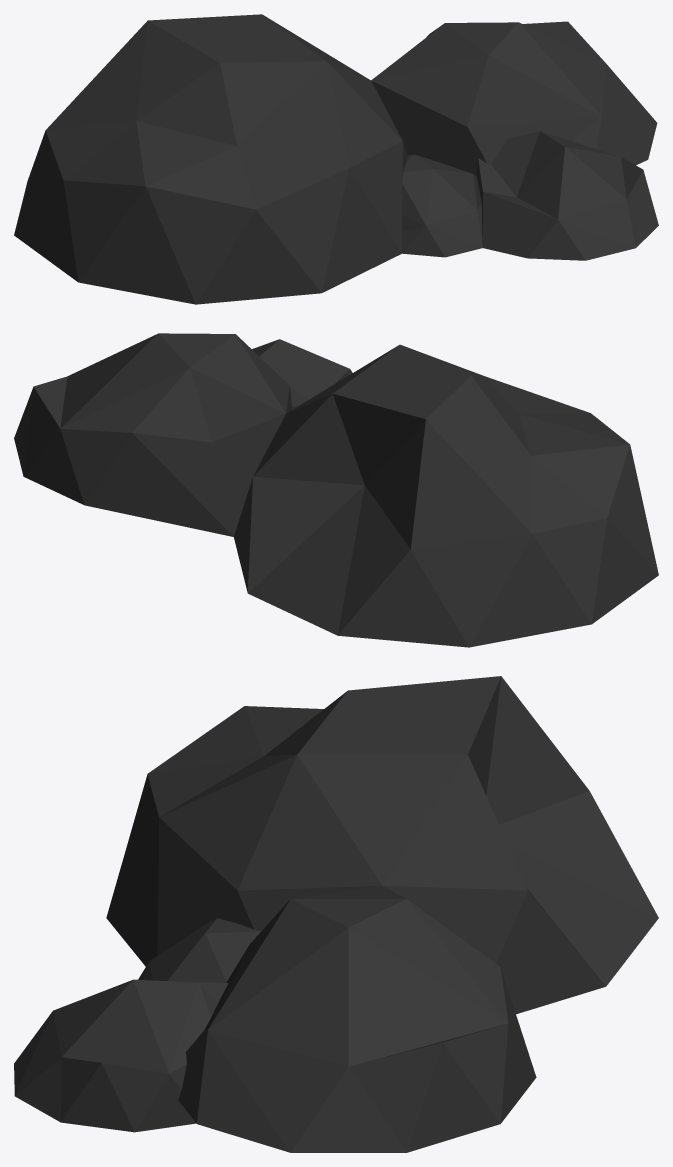
The model's file is rocks.gltf.
3 renders of one model, top to bottom at view 1: azimuth 30°, elevation 25°; view 2: azimuth 150°, elevation 25°; view 3: azimuth 270°, elevation 25°, orthographic. The views are drawn at different scales.
Parts seen in each view (by area): view 1: Icosphere; view 2: Icosphere; view 3: Icosphere.
Part boxes in pixels (bbox=[...]): Icosphere: bbox=[14, 14, 658, 304]; Icosphere: bbox=[14, 333, 658, 647]; Icosphere: bbox=[14, 676, 658, 1152].
Size of the model in its own units: 0.1767 by 0.0532 by 0.129.
1 material, 1 textured.
